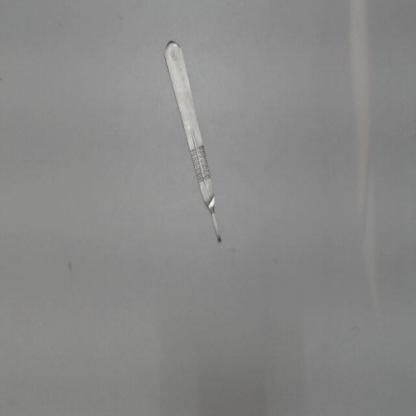No.3 BP Handle: (144, 23, 237, 260)
